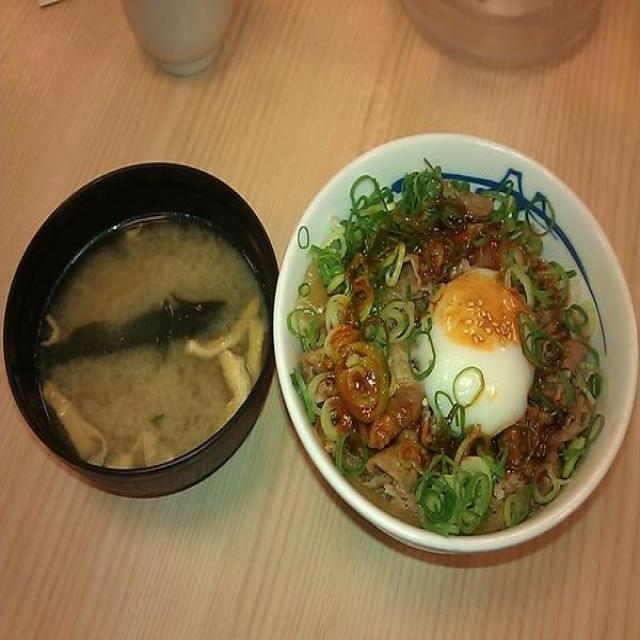汤锅炖物: (6, 161, 286, 502)
